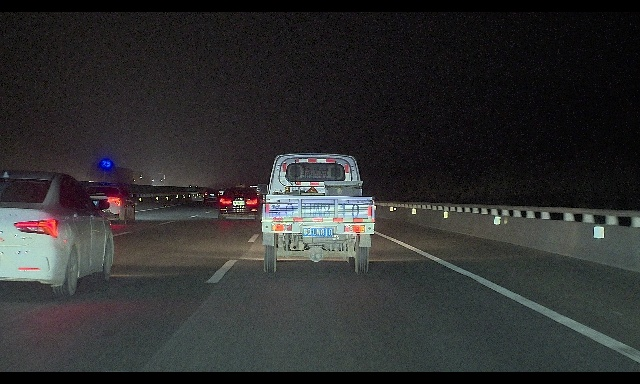car: (0, 171, 114, 297), (79, 185, 136, 225), (218, 187, 262, 223), (204, 188, 222, 202), (217, 188, 227, 198)
truck: (257, 153, 376, 274), (87, 158, 133, 199), (124, 170, 152, 196)
